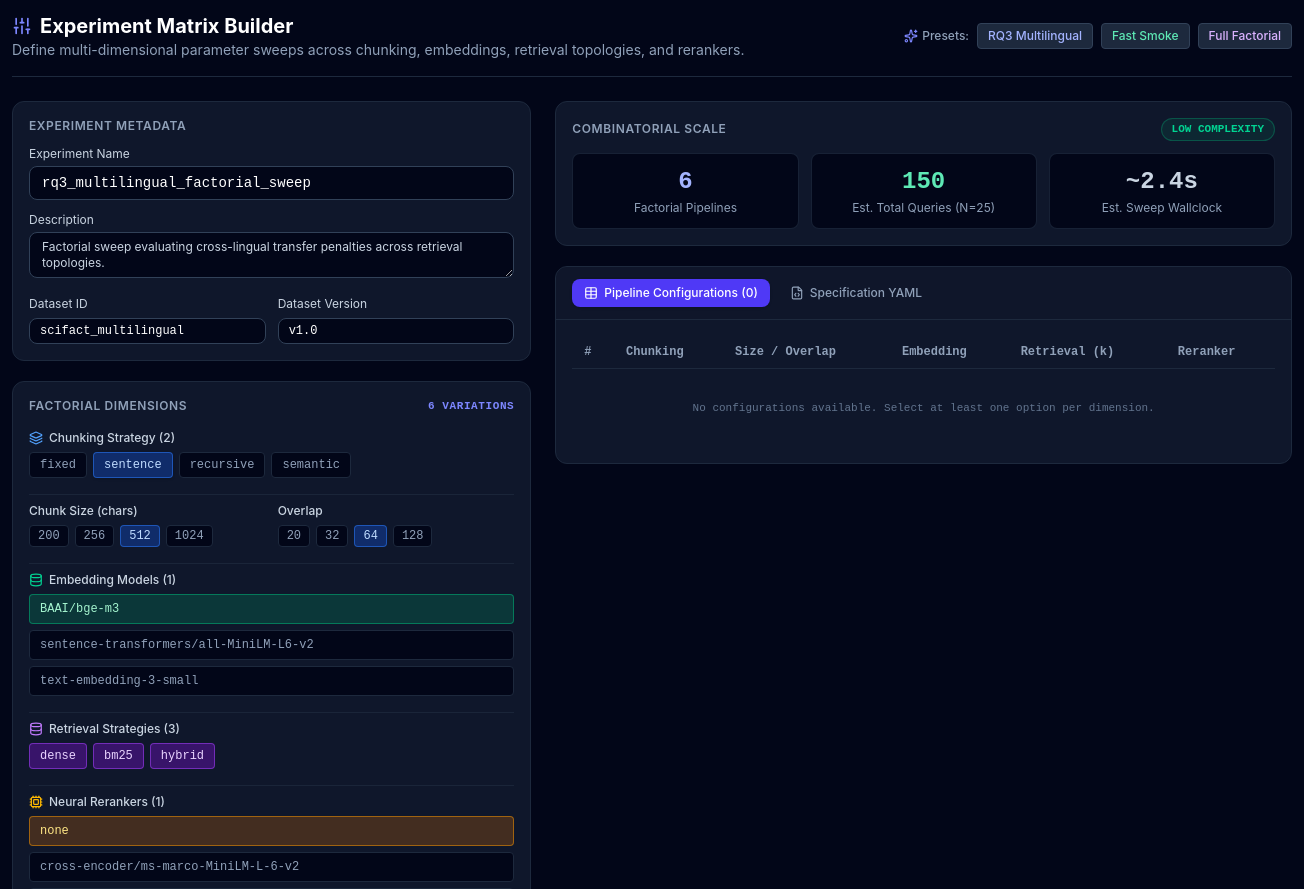
Scenario: MatrixBuilderView › loads Fast Smoke preset correctly
What coordinates should you click on to do the following:
click the button "Fast Smoke"
I would click on:
 (1145, 36)
Its box is x1=1101 y1=23 x2=1190 y2=49.
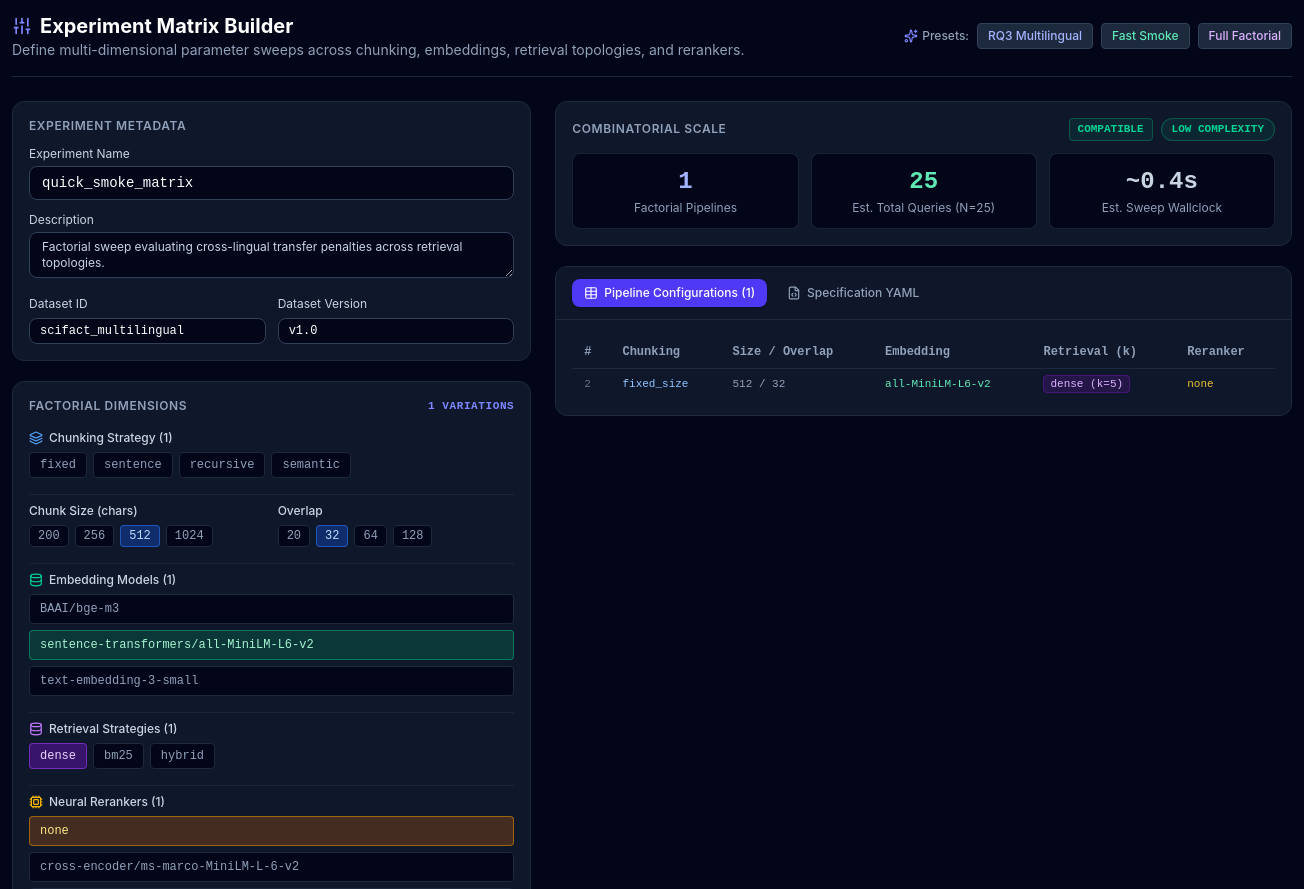
Result: the field showing "quick_smoke_matrix" below "Experiment Name" is shown at x1=29 y1=166 x2=514 y2=200
